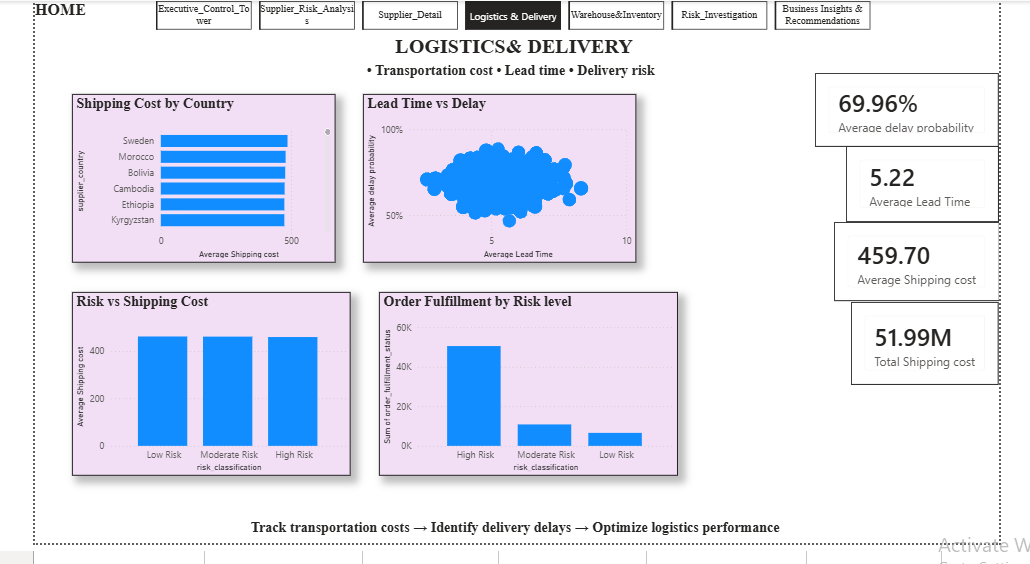

The dashboard page shown, as its layout file describes it:
{"tool":"powerbi","page":{"name":"Logistics & Delivery","canvas":[1280,720],"ordinal":3},"visuals":[{"type":"textbox","box":[456.6,39.5,364.4,48.3],"z":0},{"type":"textbox","box":[436.1,76.1,406.8,32.2],"z":1000},{"type":"cardVisual","fields":{"Data":["Dim_Country.Average Shipping cost"]},"box":[1061,294.1,219.5,105.4],"z":2000},{"type":"cardVisual","fields":{"Data":["Dim_Country.Average Lead Time"]},"box":[1077.1,193.2,203.4,101],"z":3000},{"type":"cardVisual","fields":{"Data":["Dim_Country.Total Shipping cost"]},"box":[1084.4,399.5,196.1,109.8],"z":4000},{"type":"cardVisual","fields":{"Data":["Dim_Country.Average delay probability"]},"box":[1036.1,95.1,244.4,98],"z":5000},{"type":"barChart","title":"Shipping Cost by Country","fields":{"Y":["Dim_Country.Average Shipping cost"],"Category":["Fact_SupplyChain.supplier_country"]},"box":[49.8,122.9,349.8,223.9],"z":6000},{"type":"scatterChart","title":"Lead Time vs Delay","fields":{"Category":["Fact_SupplyChain.supplier_id"],"X":["Dim_Country.Average Lead Time"],"Y":["Dim_Country.Average delay probability"],"Size":["Dim_Country.Average Shipping cost"]},"box":[436.1,122.9,362.9,223.9],"z":7000},{"type":"clusteredColumnChart","title":"Risk vs Shipping Cost","fields":{"Y":["Dim_Country.Average Shipping cost"],"Category":["Fact_SupplyChain.risk_classification"]},"box":[49.8,386.3,370.2,244.4],"z":8000},{"type":"columnChart","title":"Order Fulfillment by Risk level","fields":{"Category":["Fact_SupplyChain.risk_classification"],"Y":["Sum(Fact_SupplyChain.order_fulfillment_status)"]},"box":[456.6,386.3,396.6,244.4],"z":9000},{"type":"pageNavigator","box":[161.3,0,950.4,38.9],"z":10000},{"type":"actionButton","title":"HOME","box":[0,0,100,40],"z":11000},{"type":"textbox","box":[281,683.4,717.1,36.6],"z":12000}]}

Visuals, with their boxes in screenshot pixels (x1, y1, x2, y2), scaled from the page's 1280x720 canvas onto the 1030x564 screenshot:
textbox: bbox=[367, 31, 661, 69]
textbox: bbox=[351, 60, 678, 85]
cardVisual - Dim_Country.Average Shipping cost: bbox=[854, 230, 1029, 313]
cardVisual - Dim_Country.Average Lead Time: bbox=[867, 151, 1029, 230]
cardVisual - Dim_Country.Total Shipping cost: bbox=[873, 313, 1029, 399]
cardVisual - Dim_Country.Average delay probability: bbox=[834, 74, 1029, 151]
"Shipping Cost by Country" barChart: bbox=[40, 96, 322, 272]
"Lead Time vs Delay" scatterChart: bbox=[351, 96, 643, 272]
"Risk vs Shipping Cost" clusteredColumnChart: bbox=[40, 303, 338, 494]
"Order Fulfillment by Risk level" columnChart: bbox=[367, 303, 687, 494]
pageNavigator: bbox=[130, 0, 895, 30]
"HOME" actionButton: bbox=[0, 0, 80, 31]
textbox: bbox=[226, 535, 803, 563]
